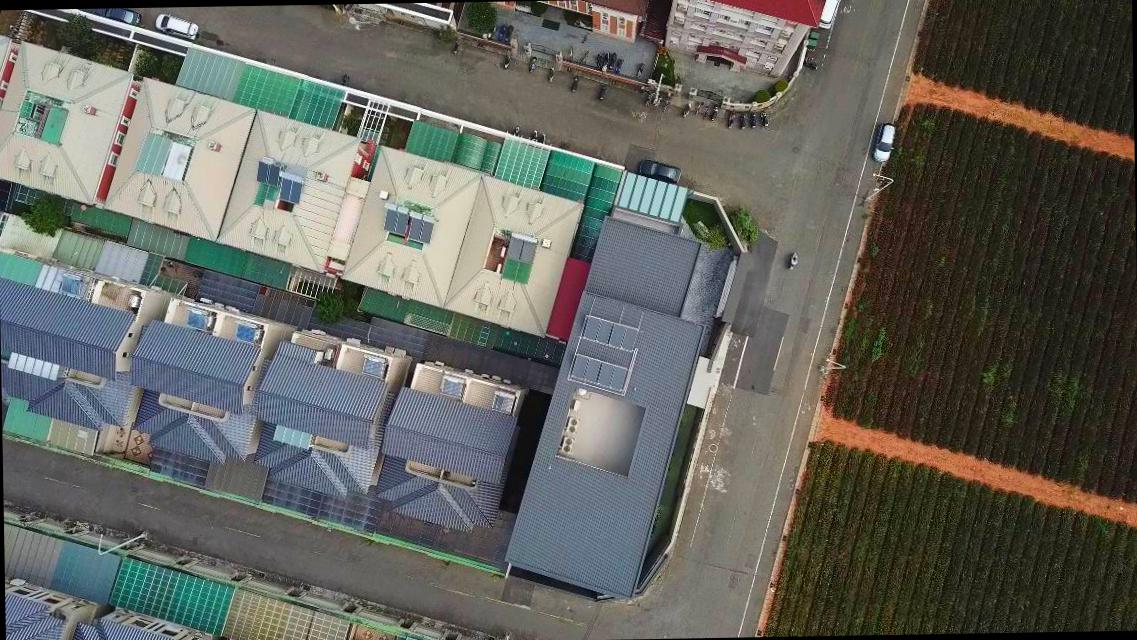vehicle: (152, 12, 199, 40), (638, 158, 682, 185), (872, 120, 897, 164), (94, 8, 142, 28), (817, 0, 841, 30)
